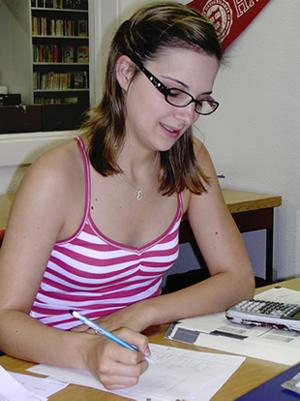person: (2, 7, 255, 390)
